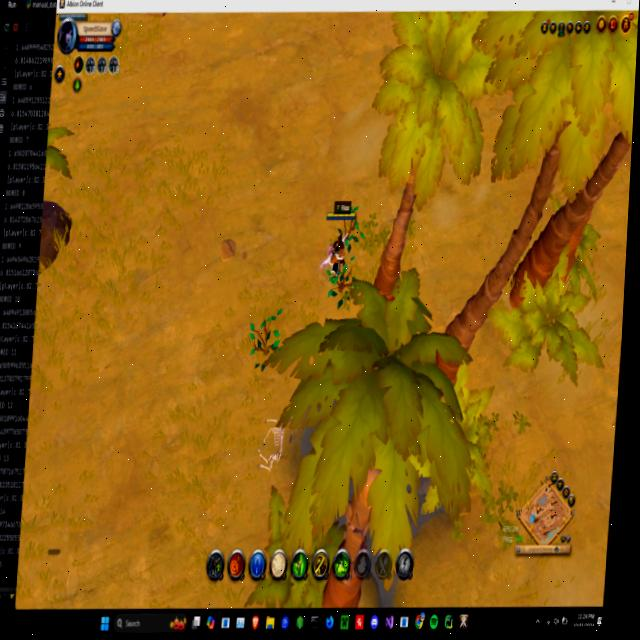red: (319, 205, 356, 284)
